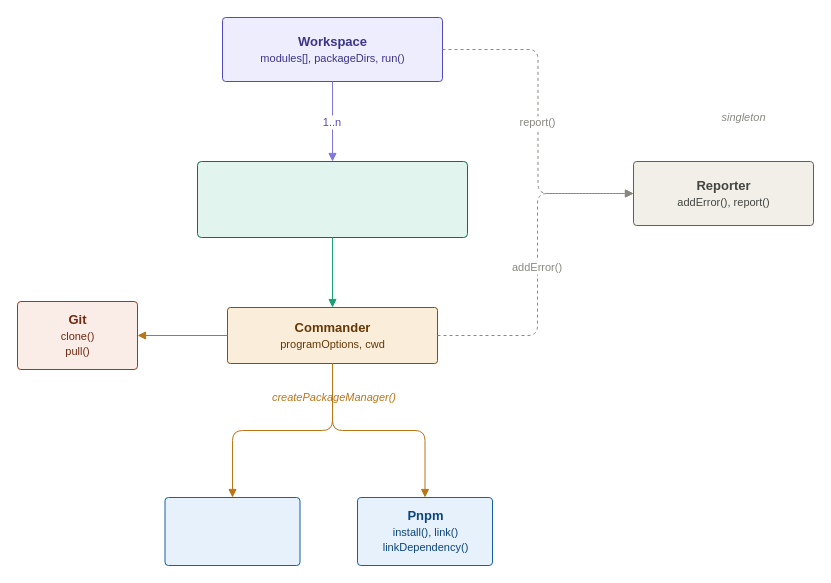
Image size: 831x583. Some labels were removed from this diagram. The centre of each missing label's shape, as x and y in pixels:
"Module name, dir, rootDir, options clone(), pull(), install(), link()…" belongs at (x=332, y=199).
"Yarn install(), link() linkDependency()" belongs at (x=232, y=531).
